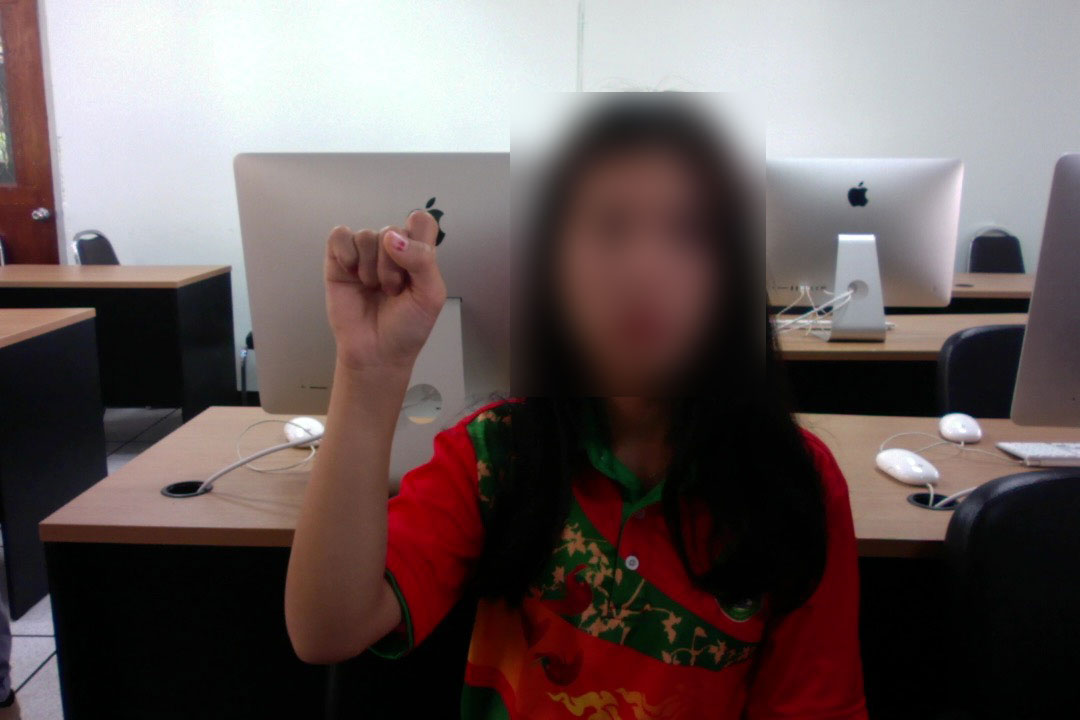sor: (317, 204, 449, 404)
